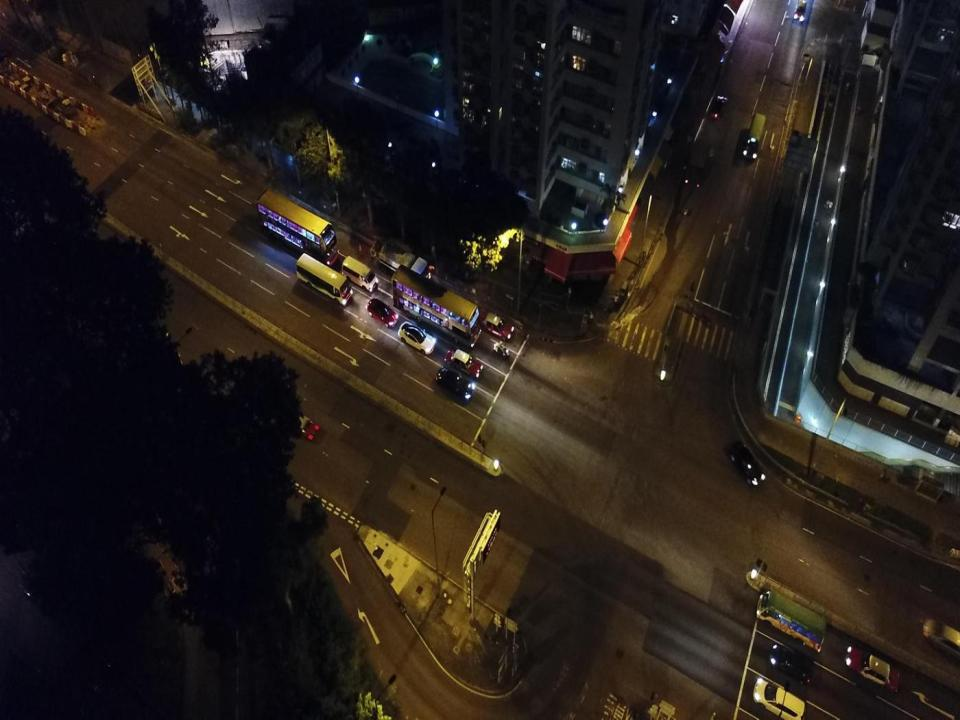bus: (391, 264, 482, 352), (257, 188, 340, 269), (755, 588, 828, 652), (296, 252, 353, 306)
car: (842, 644, 902, 695), (752, 676, 805, 719), (770, 642, 816, 688), (728, 440, 767, 486), (474, 305, 515, 342), (281, 405, 320, 441), (683, 139, 711, 188), (397, 320, 436, 355), (434, 367, 474, 401), (443, 347, 484, 380), (366, 298, 398, 329), (708, 94, 728, 121), (793, 0, 807, 21)
truck: (370, 235, 431, 289)
van: (921, 616, 960, 660), (342, 255, 379, 293), (742, 111, 767, 161)
